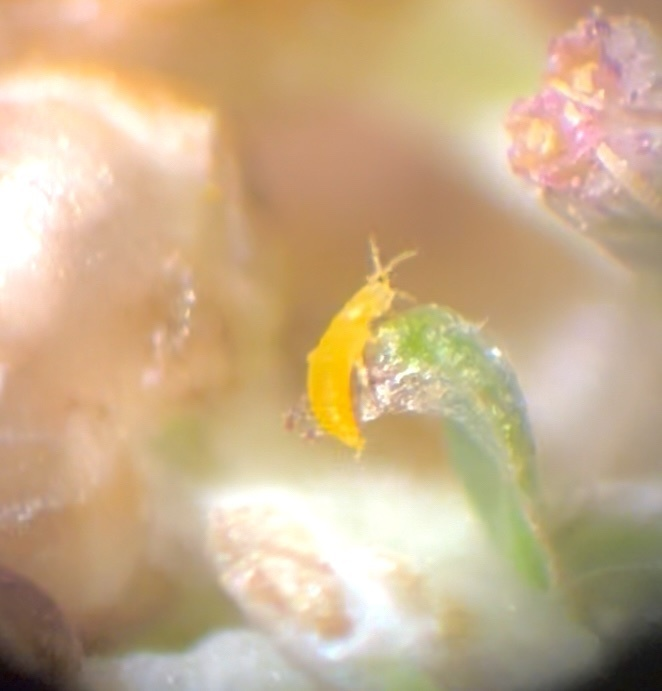tiny_pests: (252, 188, 449, 494)
